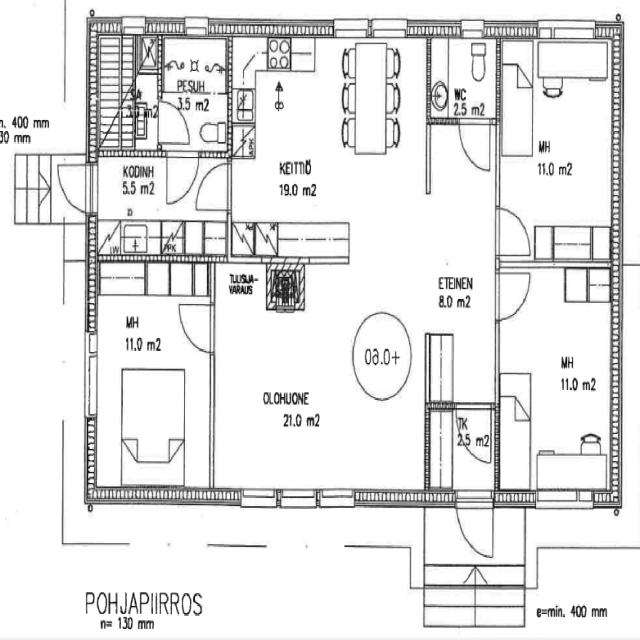door: (452, 488, 497, 562), (451, 400, 496, 471), (174, 296, 218, 357), (162, 147, 203, 209), (494, 201, 536, 260), (493, 264, 534, 323), (456, 117, 497, 175), (56, 156, 95, 216), (195, 156, 232, 218), (156, 94, 194, 147)
window: (80, 326, 100, 426), (532, 486, 596, 512), (538, 15, 599, 42), (297, 482, 360, 508), (239, 480, 282, 510), (276, 482, 322, 510), (366, 14, 411, 40), (331, 14, 372, 38), (458, 15, 487, 40), (183, 14, 209, 36)
zone: (87, 254, 217, 497), (495, 262, 620, 506), (230, 36, 360, 264), (497, 29, 618, 266), (91, 151, 167, 252), (427, 33, 499, 125), (160, 35, 228, 95), (453, 401, 494, 469)
